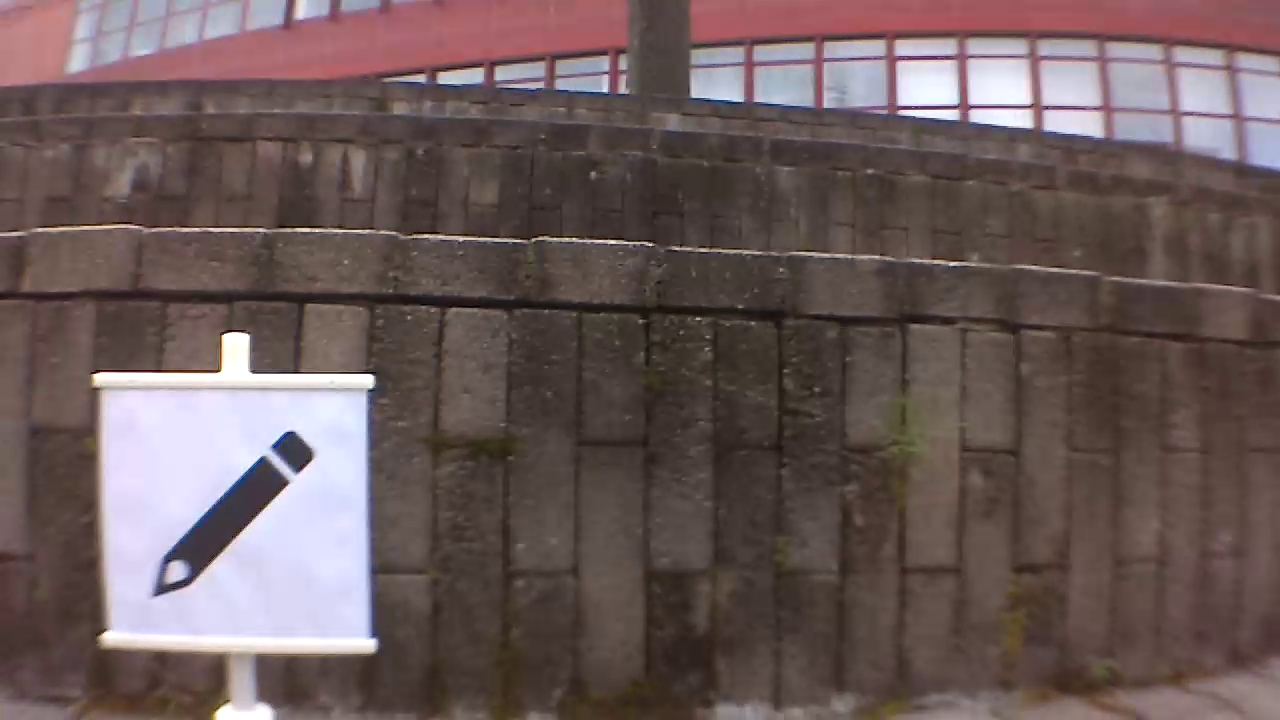pencil: (142, 428, 319, 601)
